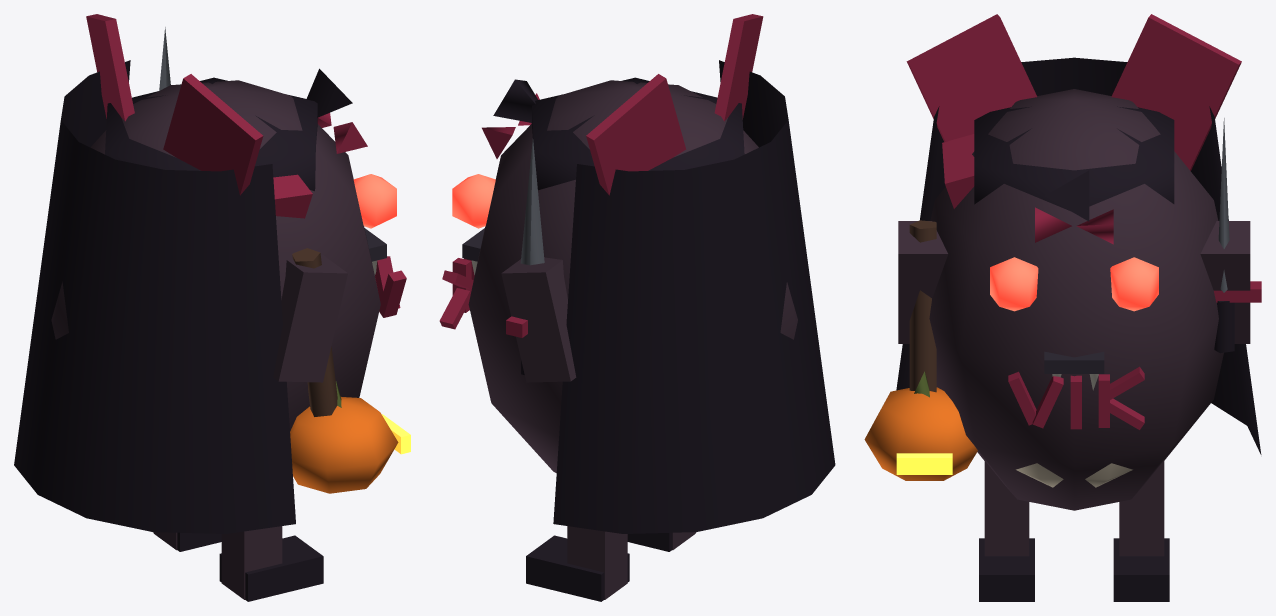
The model's file is enemy_normal.glb.
The picture shows the model from 3 angles, left to right: view 1: azimuth 30°, elevation 25°; view 2: azimuth 150°, elevation 25°; view 3: azimuth 270°, elevation 25°; orthographic projection.
Parts seen in each view (by area): view 1: cape, body, hammer_head, arm_l_mesh, collar_l, hair, foot_l, leg_l_mesh, collar_r, eye_l, hammer_haft, shoulder_pad (+4 smaller); view 2: cape, body, arm_r_mesh, collar_r, hair, foot_r, collar_l, leg_r_mesh, eye_r, sword_blade, widows_peak, vik_k_c (+2 smaller); view 3: body, collar_r, collar_l, cape, hair, hammer_head, arm_r_mesh, arm_l_mesh, leg_r_mesh, leg_l_mesh, foot_r, foot_l (+19 smaller).
Part boxes in pixels (x1,y1,x2,y2): cape: (14,60,295,533); body: (51,80,380,431); hammer_head: (290,397,398,493); arm_l_mesh: (273,255,347,382); collar_l: (163,74,263,195); hair: (105,77,317,191); foot_l: (219,535,323,601); leg_l_mesh: (221,526,282,599); collar_r: (86,14,134,121); eye_l: (353,174,396,228); hammer_haft: (292,248,337,416); shoulder_pad: (273,174,312,218); cape: (553,60,835,533); body: (468,80,797,472); arm_r_mesh: (501,257,576,382); collar_r: (586,74,686,195); hair: (531,77,744,190); foot_r: (526,535,629,601); collar_l: (714,14,763,121); leg_r_mesh: (567,526,627,599); eye_r: (452,174,495,228); sword_blade: (520,139,544,265); widows_peak: (493,79,537,122); vik_k_c: (439,288,470,329); body: (929,89,1223,510); collar_r: (1111,14,1241,170); collar_l: (906,14,1037,142); cape: (896,57,1261,454); hair: (974,88,1174,210); hammer_head: (864,387,977,480); arm_r_mesh: (1200,221,1250,343); arm_l_mesh: (898,221,948,343); leg_r_mesh: (1119,460,1164,556); leg_l_mesh: (984,460,1029,556); foot_r: (1113,538,1169,601); foot_l: (979,538,1034,601).
Size of the model in its own units: 0.2099 by 0.3101 by 0.2122.
